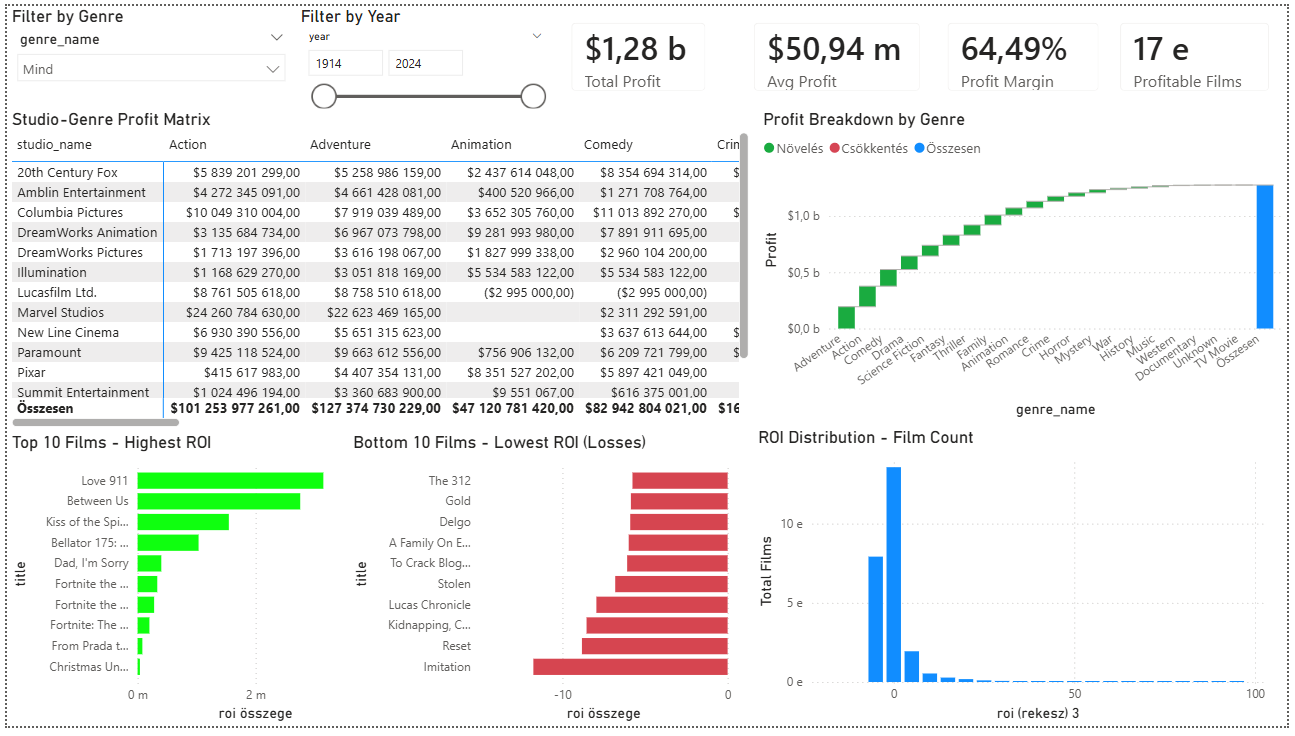

This screenshot's page, from the dashboard's own definition file:
{"tool":"powerbi","page":{"name":"Profitability & ROI","canvas":[1280,720],"ordinal":2},"visuals":[{"type":"cardVisual","fields":{"Data":["Fact_Movies.Total Profit"]},"box":[547.5,0,168.8,102.5],"z":0},{"type":"cardVisual","fields":{"Data":["Fact_Movies.Avg Profit"]},"box":[730,0,200,102.5],"z":1000},{"type":"cardVisual","fields":{"Data":["Fact_Movies.Profit Margin"]},"box":[923.8,0,185,102.5],"z":2000},{"type":"cardVisual","fields":{"Data":["Fact_Movies.Profitable Films"]},"box":[1096.2,0,183.8,102.5],"z":3000},{"type":"waterfallChart","title":"Profit Breakdown by Genre","fields":{"Category":["Dim_Genre.genre_name"],"Y":["Fact_Movies.Total Profit"]},"box":[751.2,102.5,528.8,313.8],"z":4000},{"type":"clusteredColumnChart","title":"ROI Distribution - Film Count","fields":{"Y":["Fact_Movies.Total Films"],"Category":["Fact_Movies.roi (rekesz) 3"]},"box":[746.2,421.2,517.5,298.8],"z":5000},{"type":"slicer","title":"Filter by Year ","fields":{"Values":["Dim_Time.year"]},"box":[288.8,0,258.8,118.8],"z":6000},{"type":"slicer","title":"Filter by Genre","fields":{"Values":["Dim_Genre.genre_name"]},"box":[0,0,288.8,90],"z":7000},{"type":"pivotTable","title":"Studio-Genre Profit Matrix","fields":{"Rows":["Dim_Studio.studio_name"],"Columns":["Dim_Genre.genre_name"],"Values":["Fact_Movies.Total Profit"]},"box":[0,102.5,746.2,323.8],"z":8000},{"type":"clusteredBarChart","title":"Top 10 Films - Highest ROI","fields":{"Category":["Fact_Movies.title"],"Y":["Sum(Fact_Movies.roi)"]},"box":[0,425.7,382.9,294.3],"z":9000},{"type":"clusteredBarChart","title":"Bottom 10 Films - Lowest ROI (Losses)","fields":{"Category":["Fact_Movies.title"],"Y":["Sum(Fact_Movies.roi)"]},"box":[341.4,425.7,388.6,294.3],"z":10000}]}

Visuals, with their boxes in screenshot pixels (x1, y1, x2, y2), scaled from the page's 1280x720 canvas onto the 1295x736 screenshot:
cardVisual - Fact_Movies.Total Profit: (left=554, top=0, right=725, bottom=105)
cardVisual - Fact_Movies.Avg Profit: (left=739, top=0, right=941, bottom=105)
cardVisual - Fact_Movies.Profit Margin: (left=935, top=0, right=1122, bottom=105)
cardVisual - Fact_Movies.Profitable Films: (left=1109, top=0, right=1294, bottom=105)
"Profit Breakdown by Genre" waterfallChart: (left=760, top=105, right=1294, bottom=426)
"ROI Distribution - Film Count" clusteredColumnChart: (left=755, top=431, right=1279, bottom=735)
"Filter by Year " slicer: (left=292, top=0, right=554, bottom=121)
"Filter by Genre" slicer: (left=0, top=0, right=292, bottom=92)
"Studio-Genre Profit Matrix" pivotTable: (left=0, top=105, right=755, bottom=436)
"Top 10 Films - Highest ROI" clusteredBarChart: (left=0, top=435, right=387, bottom=735)
"Bottom 10 Films - Lowest ROI (Losses)" clusteredBarChart: (left=345, top=435, right=739, bottom=735)
